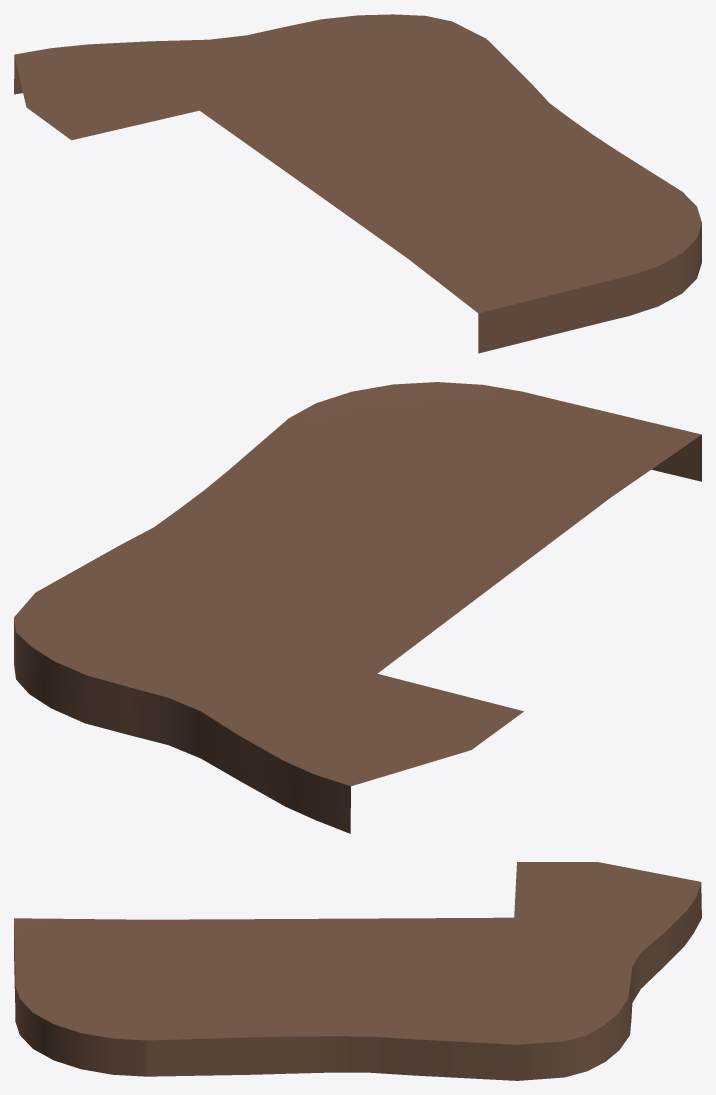
Rendered from DirtGroundFBX.fbx.
3 renders of one model, top to bottom at view 1: azimuth 30°, elevation 25°; view 2: azimuth 150°, elevation 25°; view 3: azimuth 270°, elevation 25°, orthographic. The views are drawn at different scales.
Parts seen in each view (by area): view 1: Ground; view 2: Ground; view 3: Ground.
Part boxes in pixels (box(x1,y1,x2,y2)): Ground: box(14, 14, 701, 353); Ground: box(14, 382, 701, 833); Ground: box(14, 862, 701, 1080).
Bounding box in the file's own units: 4.29 × 0.3964 × 6.83.
